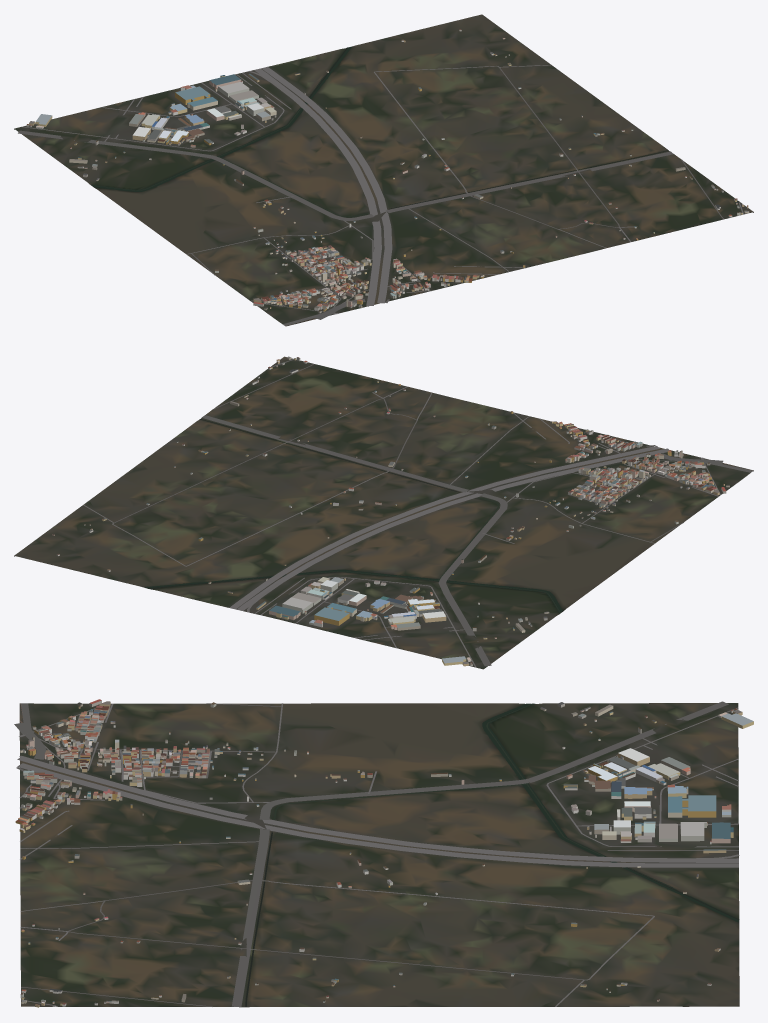
The picture shows the model from 3 angles, top to bottom: view 1: azimuth 30°, elevation 25°; view 2: azimuth 150°, elevation 25°; view 3: azimuth 270°, elevation 25°; orthographic projection. The views are drawn at different scales.
Visible parts, largest first — view 1: ground, buildings, roads, water; view 2: ground, buildings, roads, water; view 3: ground, buildings, roads, water.
Boxes of the visible parts, <box> form: ground: <box>14,14,753,326</box>; buildings: <box>26,29,749,313</box>; roads: <box>18,64,744,326</box>; water: <box>91,46,668,216</box>; ground: <box>14,356,753,669</box>; buildings: <box>52,356,729,666</box>; roads: <box>83,359,752,667</box>; water: <box>145,419,562,613</box>; ground: <box>19,703,739,1007</box>; buildings: <box>15,699,753,1007</box>; roads: <box>14,701,739,1006</box>; water: <box>245,703,739,1006</box>.
Bounding box in the file's own units: 1412 × 29.34 × 1443.
